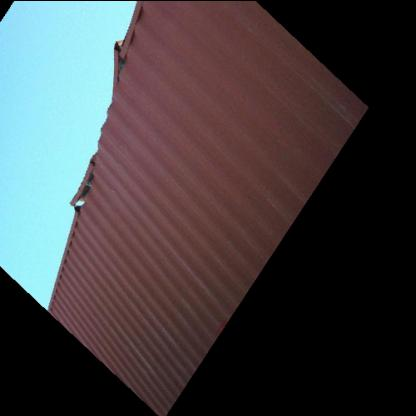Damage: (92, 29, 142, 115), (68, 142, 114, 224)
